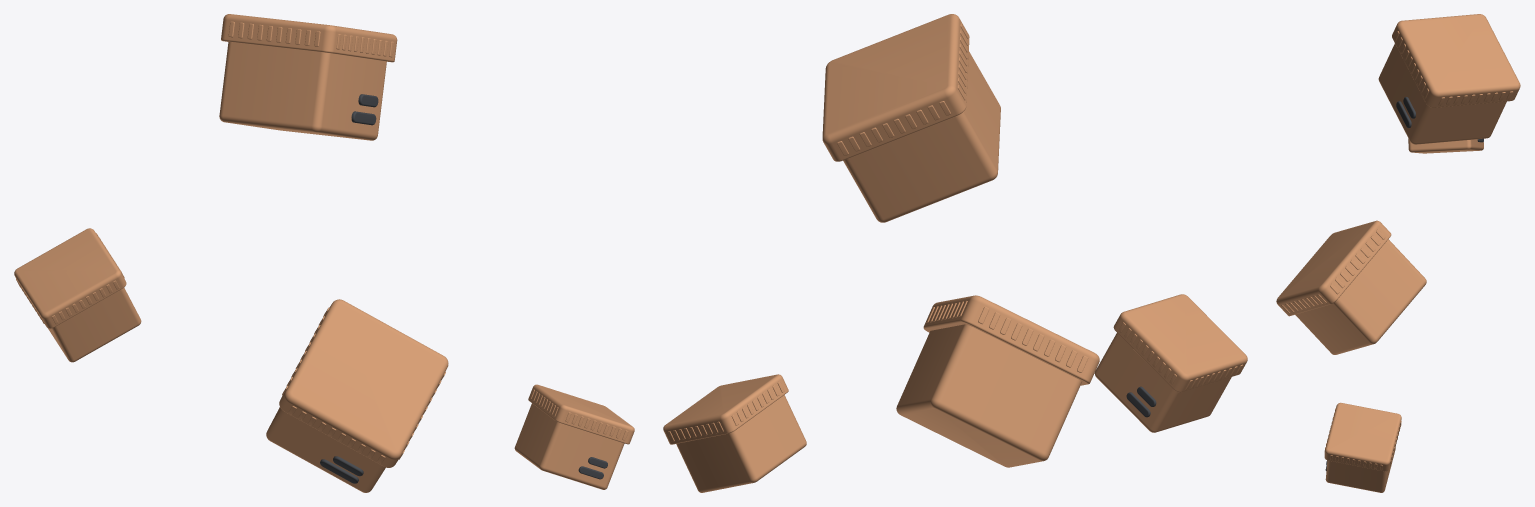
Rendered from package.fbx.
3 renders of one model, left to right at view 1: azimuth 30°, elevation 25°; view 2: azimuth 150°, elevation 25°; view 3: azimuth 270°, elevation 25°, orthographic. The views are drawn at different scales.
Visible parts, largest first — view 1: Cube.019, Cube.012, Cube.016, Cube.013, Cube.021, Cube.018, Cube.015, Cube.022; view 2: Cube.018, Cube.013, Cube.012, Cube.016, Cube.021, Cube.019, Cube.015, Cube.022; view 3: Cube.013, Cube.018, Cube.019, Cube.012, Cube.022, Cube.021, Cube.015, Cube.006.
Boxes of the visible parts, bbox=[...] form: Cube.019: bbox=[279, 299, 448, 467]; Cube.012: bbox=[219, 42, 386, 140]; Cube.016: bbox=[14, 228, 126, 328]; Cube.013: bbox=[221, 14, 397, 62]; Cube.021: bbox=[514, 403, 624, 489]; Cube.018: bbox=[266, 407, 385, 492]; Cube.015: bbox=[48, 288, 141, 362]; Cube.022: bbox=[528, 384, 634, 444]; Cube.018: bbox=[896, 324, 1081, 467]; Cube.013: bbox=[822, 14, 969, 161]; Cube.012: bbox=[843, 51, 1000, 222]; Cube.016: bbox=[1113, 294, 1247, 392]; Cube.021: bbox=[676, 395, 806, 492]; Cube.019: bbox=[923, 295, 1099, 385]; Cube.015: bbox=[1094, 333, 1231, 432]; Cube.022: bbox=[663, 374, 788, 444]; Cube.013: bbox=[1392, 14, 1520, 107]; Cube.018: bbox=[1295, 239, 1426, 354]; Cube.019: bbox=[1276, 220, 1391, 316]; Cube.012: bbox=[1378, 43, 1506, 144]; Cube.022: bbox=[1324, 402, 1401, 471]; Cube.021: bbox=[1325, 445, 1395, 492]; Cube.015: bbox=[1408, 138, 1483, 153]; Cube.006: bbox=[1396, 97, 1415, 128].
Size of the model in its own units: 78.04 by 67.82 by 39.3.
